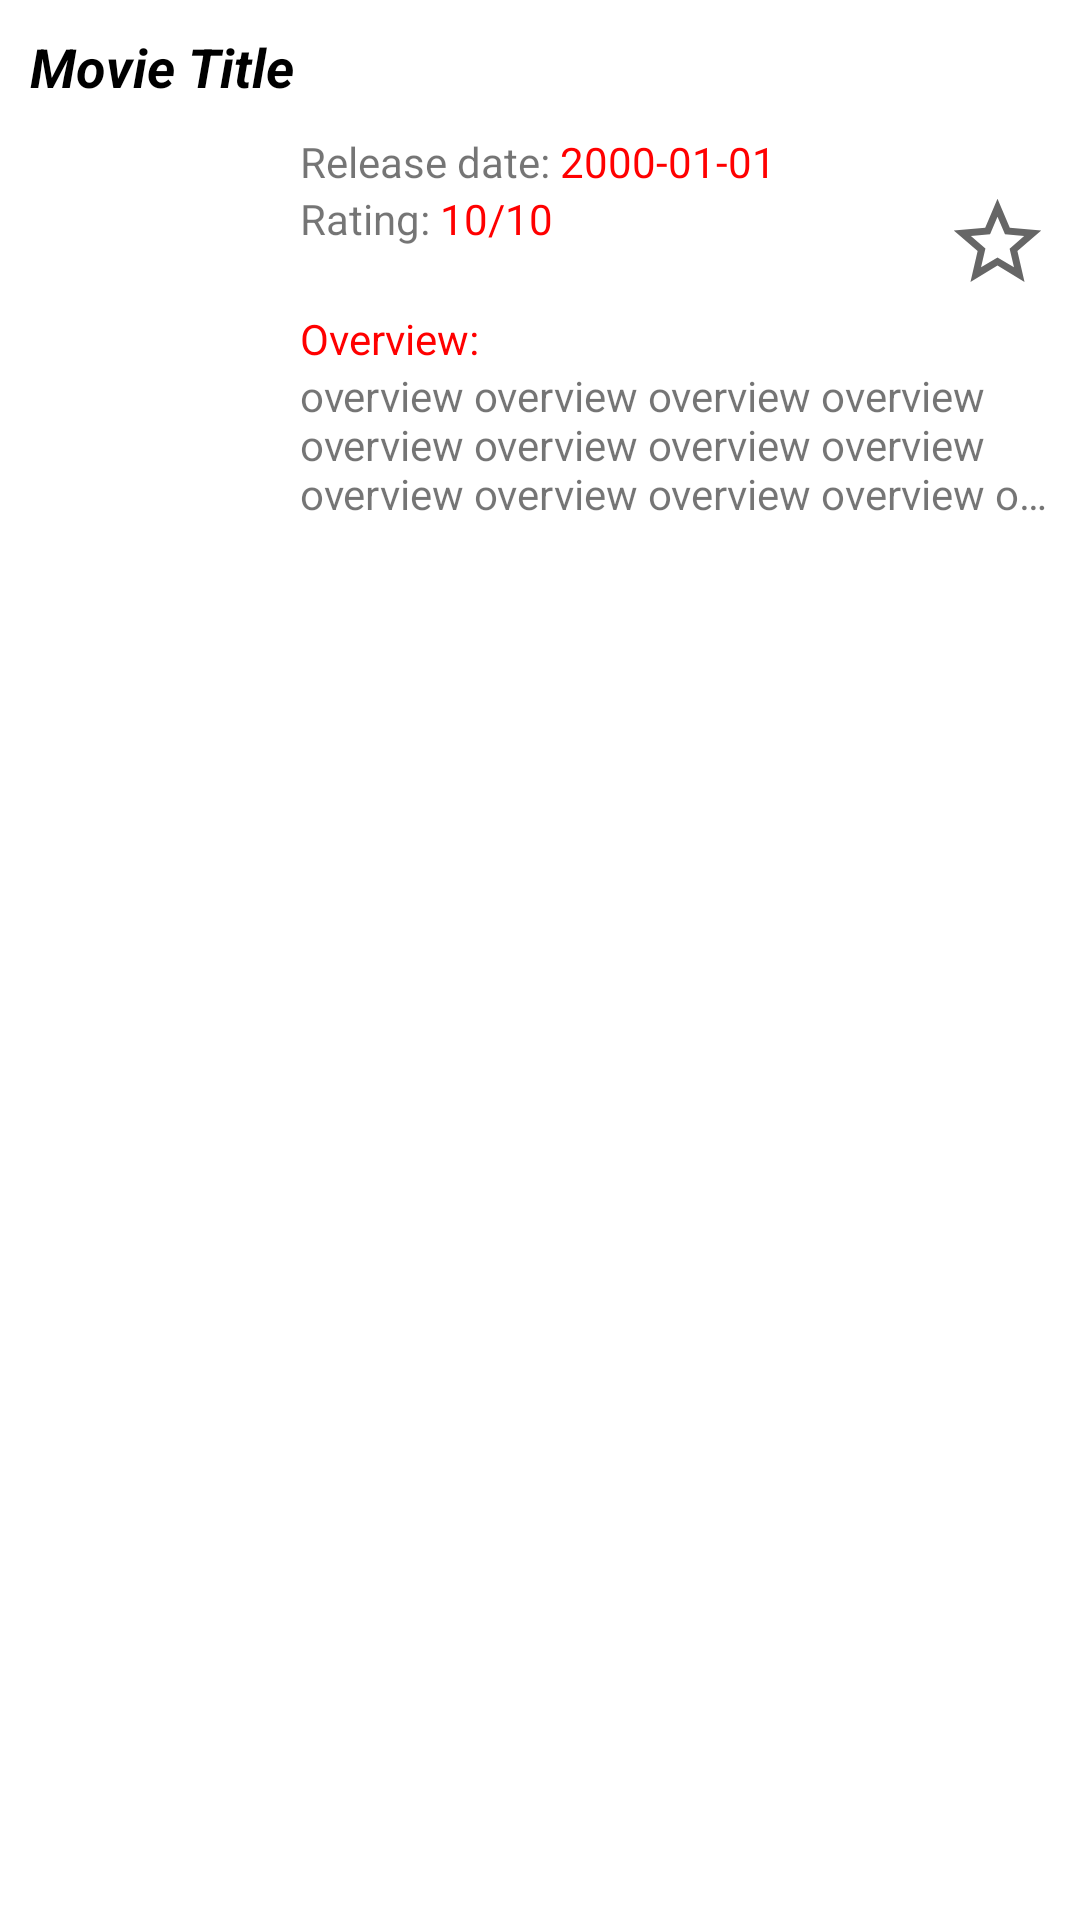

Screen size 1080*1920. Icon name, then its center in pixels as point (x, y):
star: point (997, 240)
